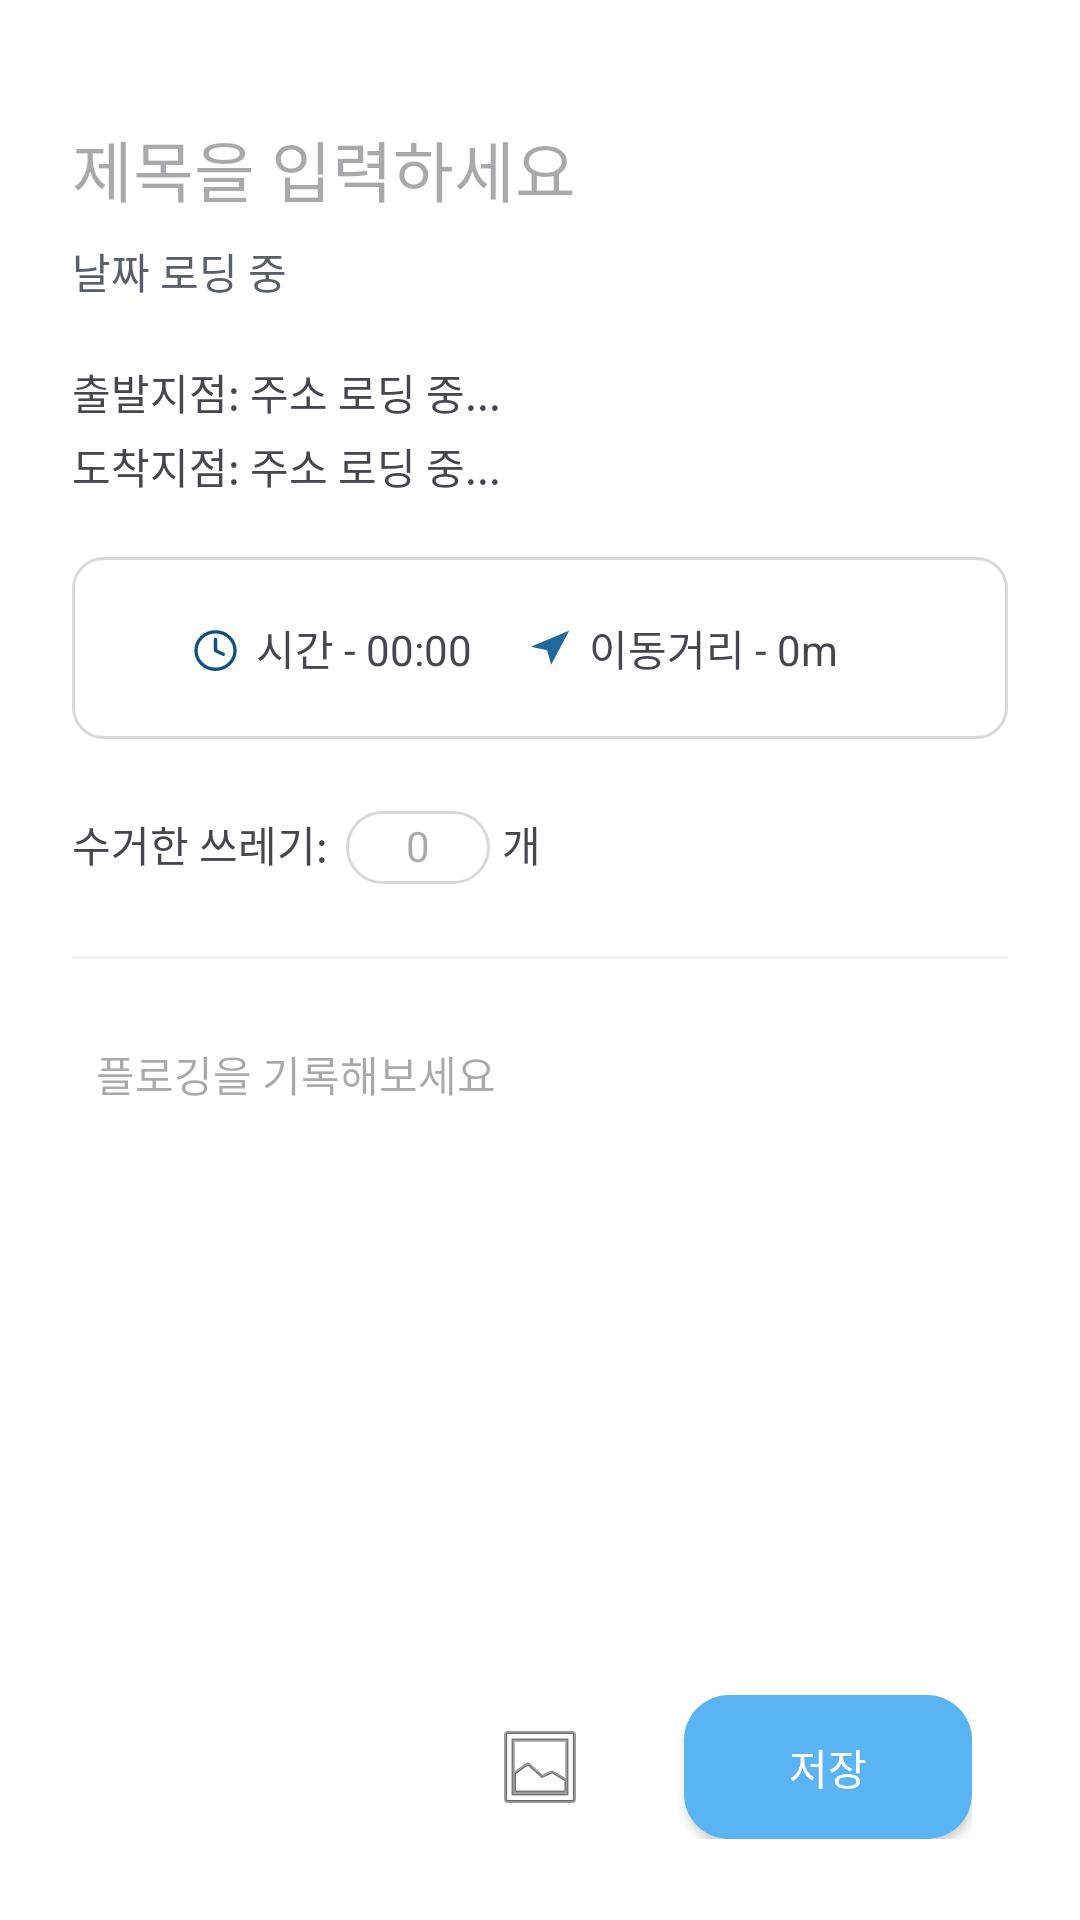

Where icons sit on this 1080×1920 app screen, as bbox=[x1, y1, x2, y2]:
time: bbox=[194, 630, 237, 671]
갤러리: bbox=[504, 1731, 576, 1803]
